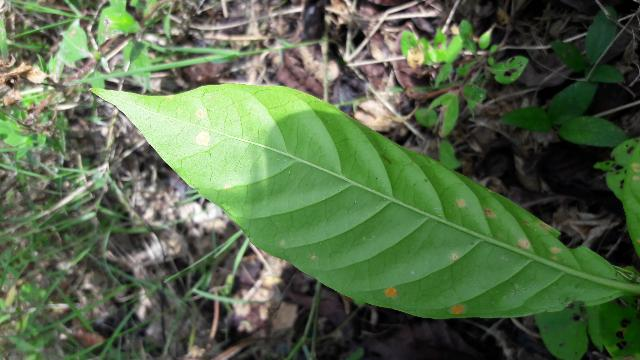rust_level_2: (88, 85, 630, 320)
